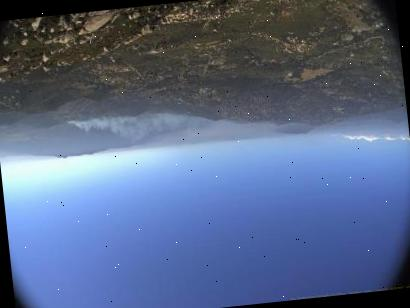smoke: (68, 99, 241, 156)
